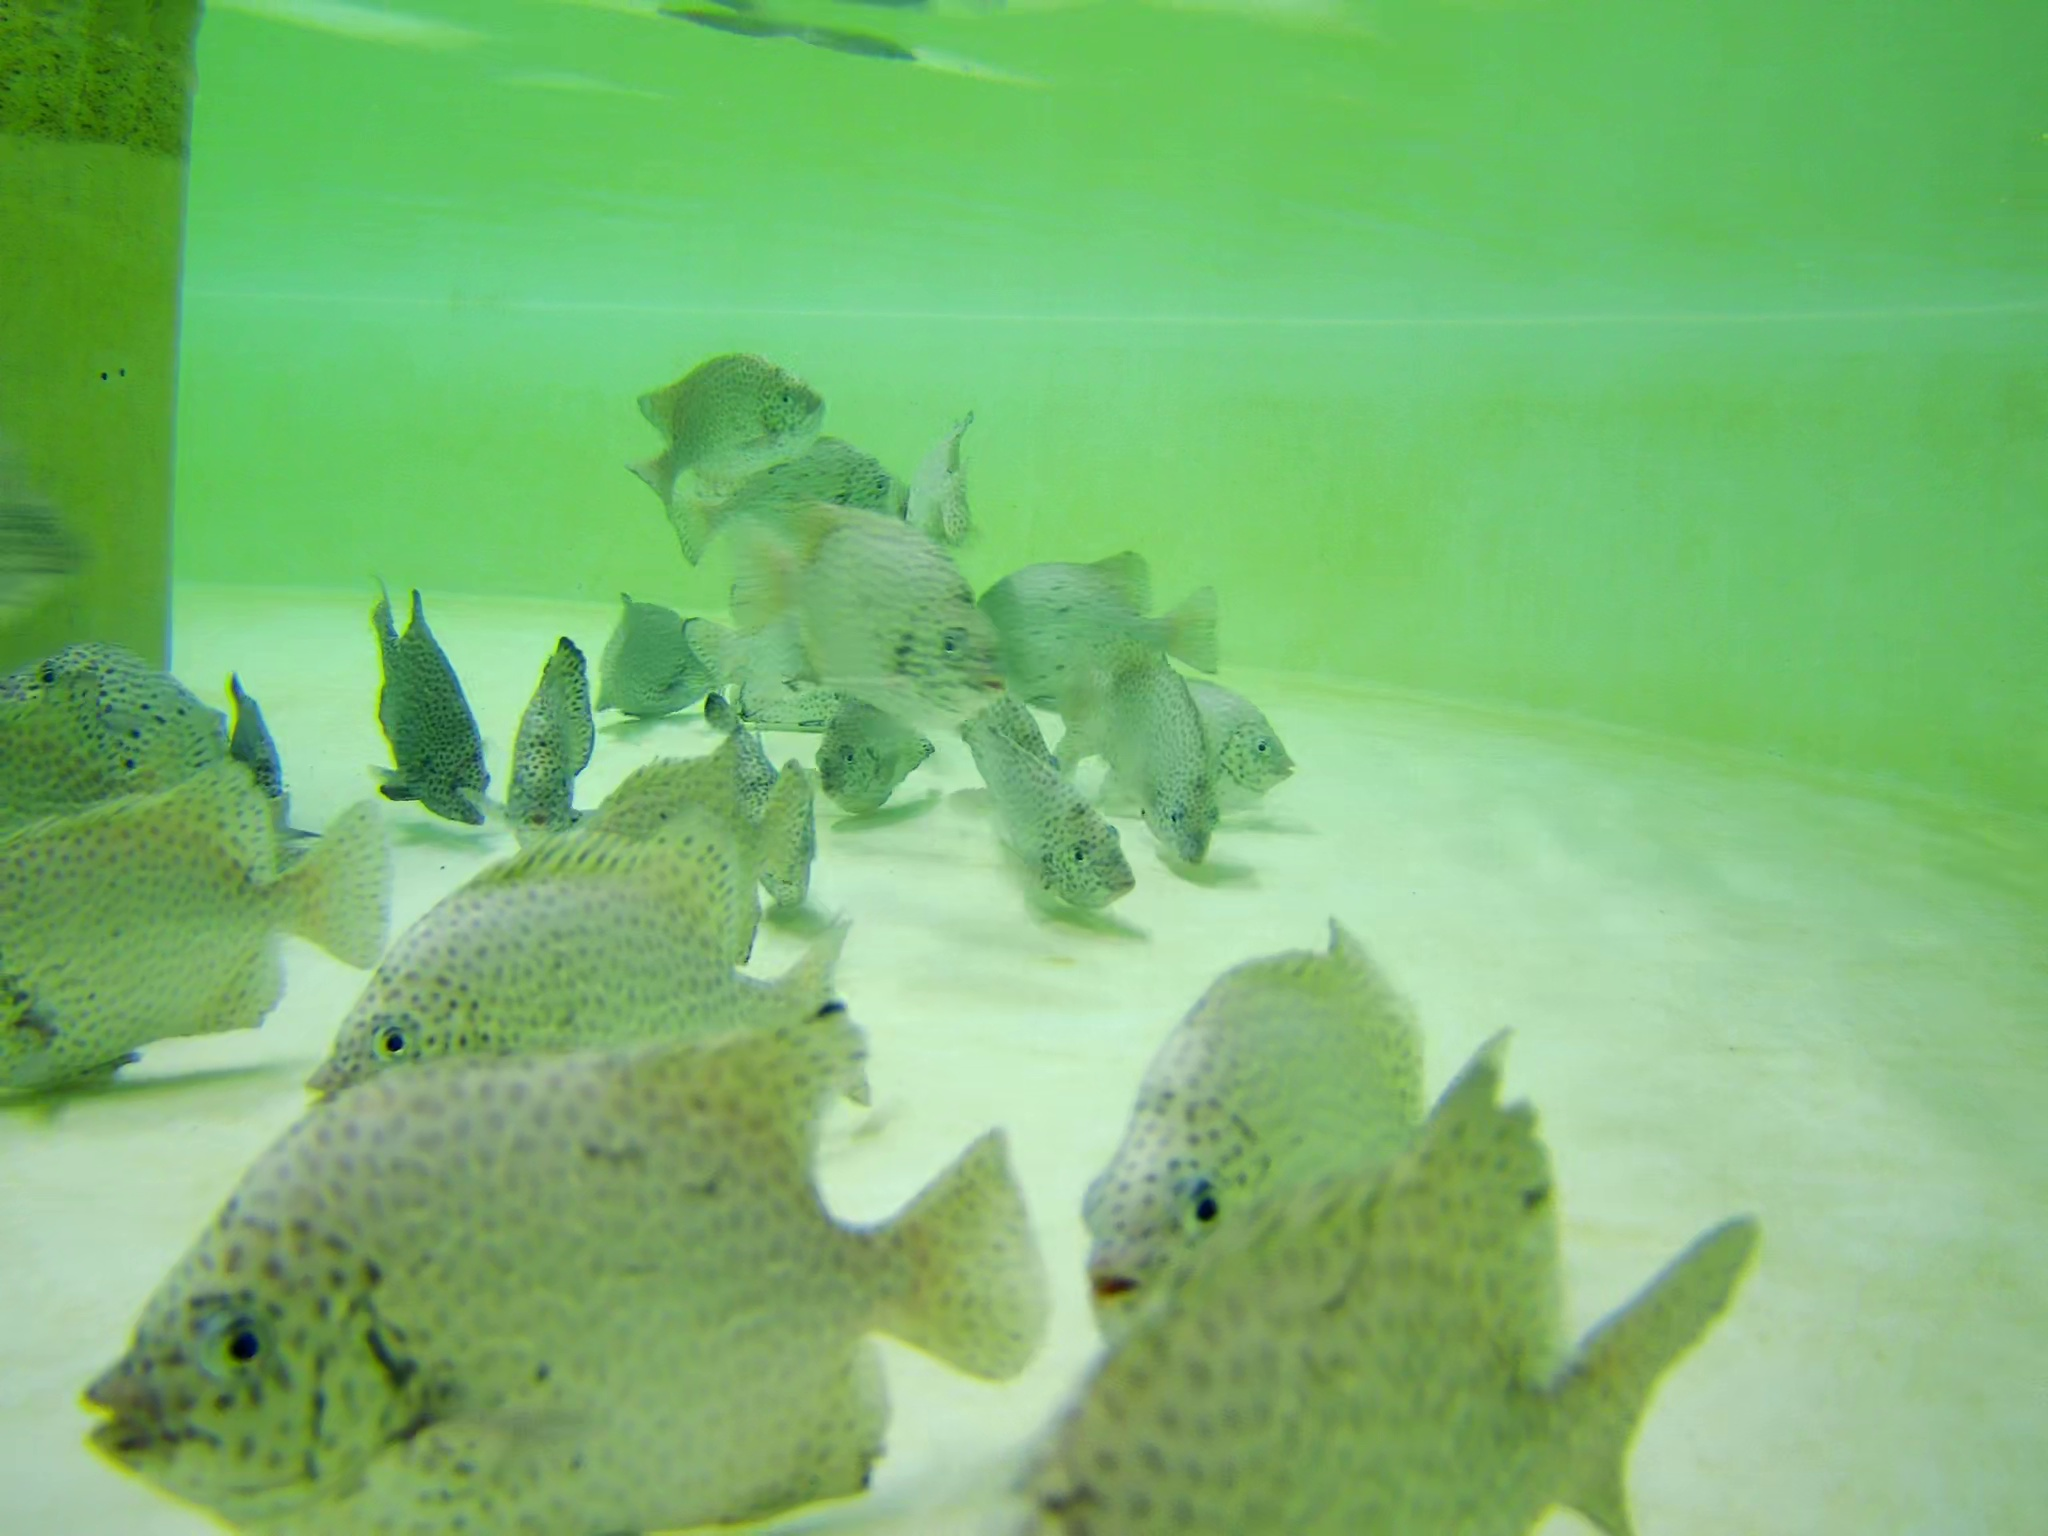fish: (76, 995, 1053, 1536), (1019, 1041, 1759, 1536), (1082, 915, 1429, 1405), (2, 768, 413, 1078), (724, 513, 1005, 710), (3, 637, 235, 823), (968, 547, 1219, 713), (972, 692, 1137, 931), (1063, 655, 1222, 870), (622, 353, 829, 499), (368, 595, 497, 826), (672, 436, 889, 532), (1155, 649, 1292, 799), (506, 636, 598, 844), (585, 591, 721, 716), (818, 681, 934, 805)
